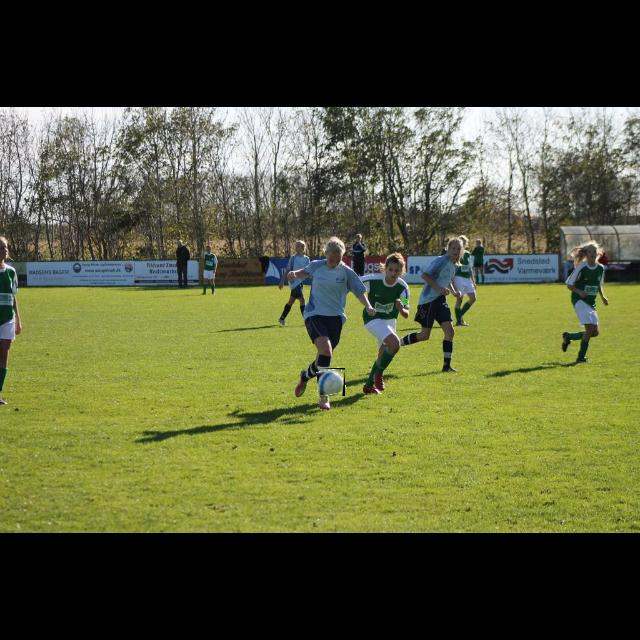Football: (317, 368, 345, 396)
